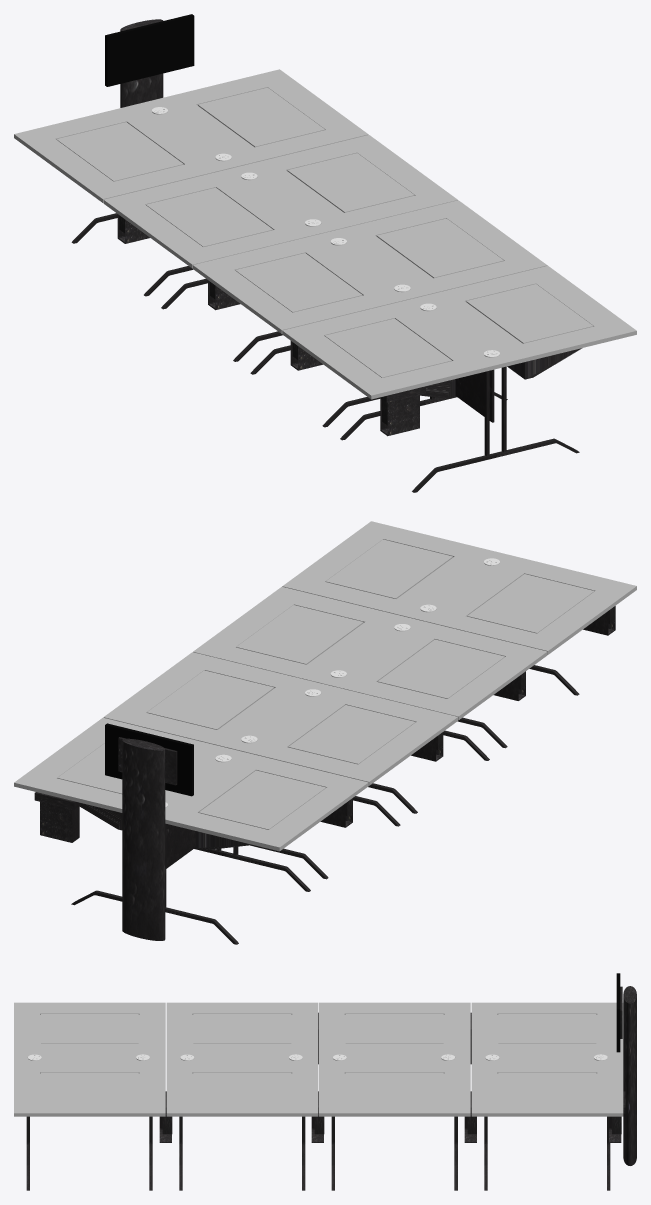
The model's file is 4computer_desk.fbx.
The picture shows the model from 3 angles, top to bottom: view 1: azimuth 30°, elevation 25°; view 2: azimuth 150°, elevation 25°; view 3: azimuth 270°, elevation 25°; orthographic projection. The views are drawn at different scales.
Parts seen in each view (by area): view 1: computer_desk_top3, computer_desk_top, computer_desk_top2, computer_desk_top1, monitor, laptop6, monitor_arm1, middle_board3, leg19, under__laptop7; view 2: computer_desk_top1, computer_desk_top3, computer_desk_top2, computer_desk_top, monitor_arm1, monitor, laptop1, middle_board, leg2, leg5, monitor_arm2, under__laptop; view 3: computer_desk_top2, computer_desk_top3, computer_desk_top1, computer_desk_top, monitor_arm1, laptop1, laptop7, laptop, monitor, laptop2.
Boxes of the visible parts, x1,y1,x2,y2 form: computer_desk_top3: (282, 266, 636, 399); computer_desk_top: (14, 69, 368, 202); computer_desk_top2: (193, 200, 547, 333); computer_desk_top1: (103, 135, 457, 268); monitor: (105, 14, 194, 86); laptop6: (379, 386, 425, 436); monitor_arm1: (120, 19, 163, 107); middle_board3: (455, 369, 494, 422); leg19: (412, 438, 579, 492); under__laptop7: (507, 348, 582, 379); computer_desk_top1: (103, 652, 457, 785); computer_desk_top3: (282, 521, 636, 654); computer_desk_top2: (193, 587, 547, 720); computer_desk_top: (14, 717, 368, 851); monitor_arm1: (122, 738, 165, 940); monitor: (105, 723, 193, 796); laptop1: (34, 792, 82, 842); middle_board: (166, 824, 195, 868); leg2: (71, 890, 238, 944); leg5: (194, 848, 310, 891); monitor_arm2: (118, 737, 177, 785); under__laptop: (195, 831, 252, 850); computer_desk_top2: (166, 1002, 318, 1116); computer_desk_top3: (14, 1002, 165, 1116); computer_desk_top1: (319, 1002, 470, 1116); computer_desk_top: (471, 1002, 623, 1116); monitor_arm1: (623, 986, 636, 1165); laptop1: (609, 1091, 625, 1142); laptop7: (159, 1091, 172, 1142); laptop: (464, 1091, 476, 1142); monitor: (616, 973, 620, 1052); laptop2: (311, 1091, 324, 1142).
Bounding box in the file's own units: 12.49 × 8.77 × 29.75.
